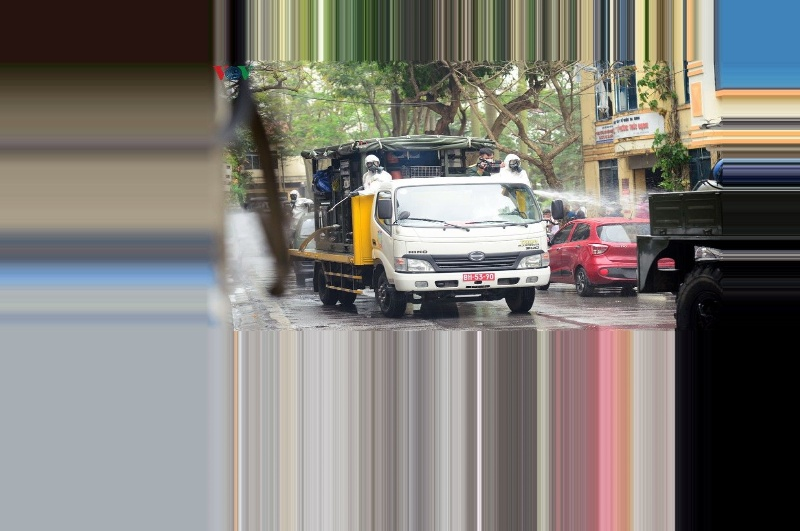plate: (460, 269, 499, 283)
